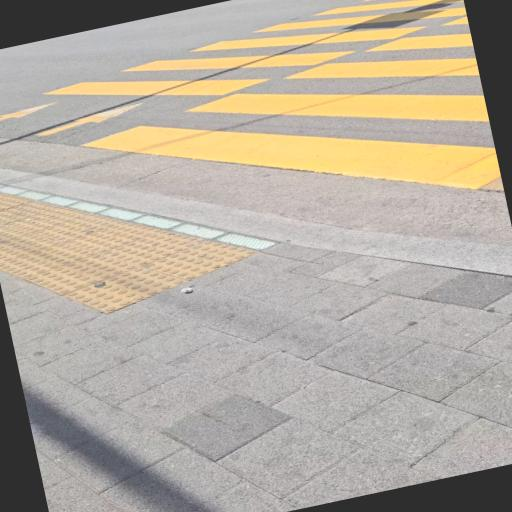yellow-crosswalk: (0, 0, 505, 303)
